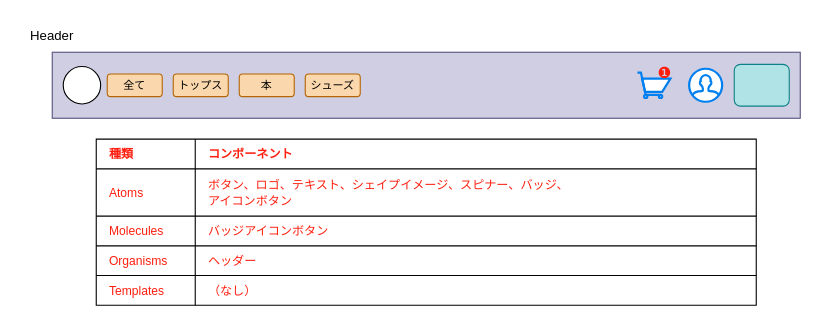
Image size: 820x325. Some labels were removed from this diagram. Each missing label, with the box of its shape:
Logo: (62, 65, 101, 104)
出品: (733, 63, 789, 106)
